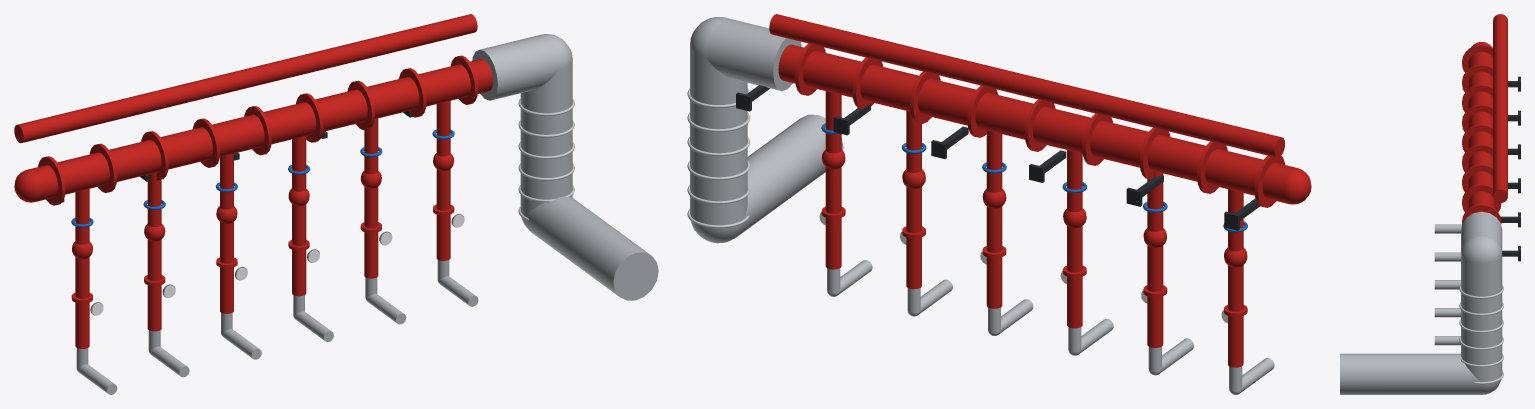
The model's file is Steam manifold.glb.
The picture shows the model from 3 angles, left to right: view 1: azimuth 30°, elevation 25°; view 2: azimuth 150°, elevation 25°; view 3: azimuth 270°, elevation 25°; orthographic projection. The views are drawn at different scales.
Visible parts, largest first — view 1: Asset; view 2: Asset; view 3: Asset.
Part boxes in pixels (box(x1,y1,x2,y2)): Asset: box(14, 14, 658, 394); Asset: box(687, 14, 1311, 394); Asset: box(1340, 14, 1520, 394).
Bounding box in the file's own units: 5.38 × 2.33 × 1.91.
